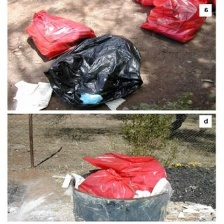plastic_bag: (41, 31, 144, 109), (81, 143, 168, 195), (22, 8, 98, 61), (138, 0, 211, 47), (79, 166, 138, 203), (127, 0, 159, 7)
